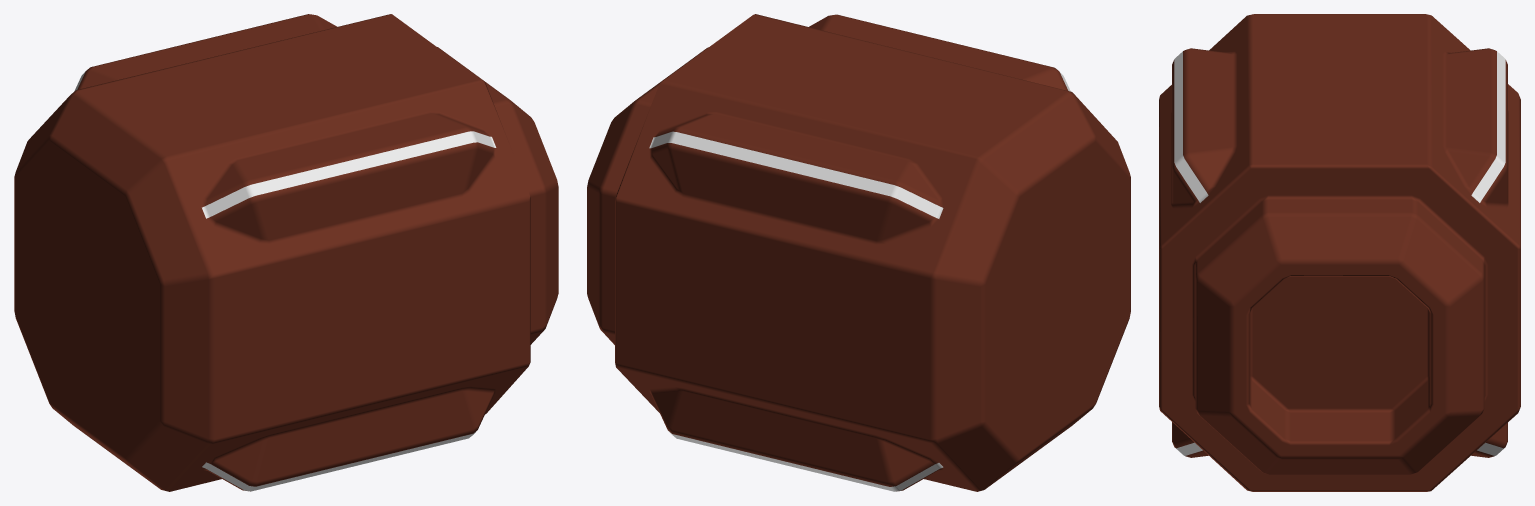
Rendered from Kaynak.fbx.
The picture shows the model from 3 angles, left to right: view 1: azimuth 30°, elevation 25°; view 2: azimuth 150°, elevation 25°; view 3: azimuth 270°, elevation 25°; orthographic projection. The views are drawn at different scales.
Parts seen in each view (by area): view 1: Cube.003; view 2: Cube.003; view 3: Cube.003.
Part boxes in pixels (x1=…): Cube.003: x1=14, y1=14, x2=558, y2=491; Cube.003: x1=587, y1=14, x2=1130, y2=491; Cube.003: x1=1159, y1=14, x2=1520, y2=491.
Size of the model in its own units: 130 by 100 by 100.
